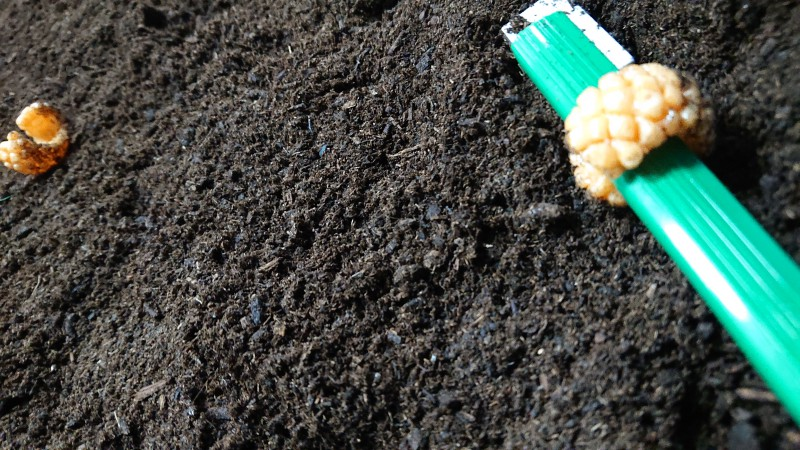eggs: (561, 60, 718, 207), (1, 101, 74, 179)
